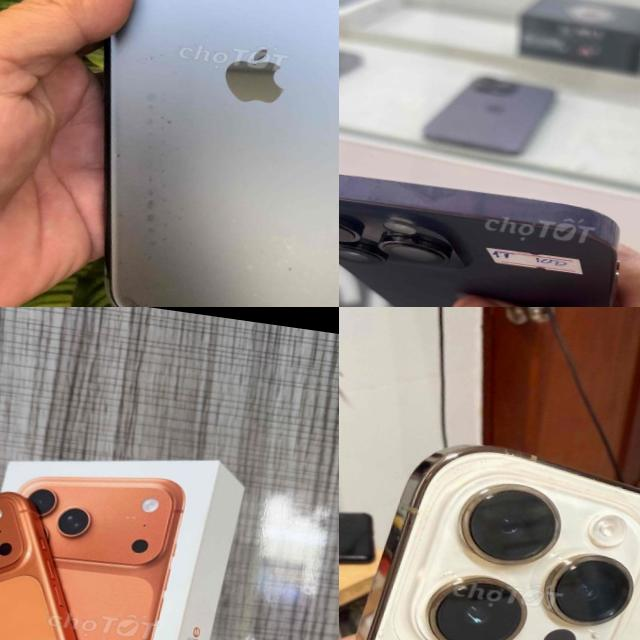scratch: (99, 45, 228, 278), (114, 282, 218, 307), (268, 252, 312, 294)
